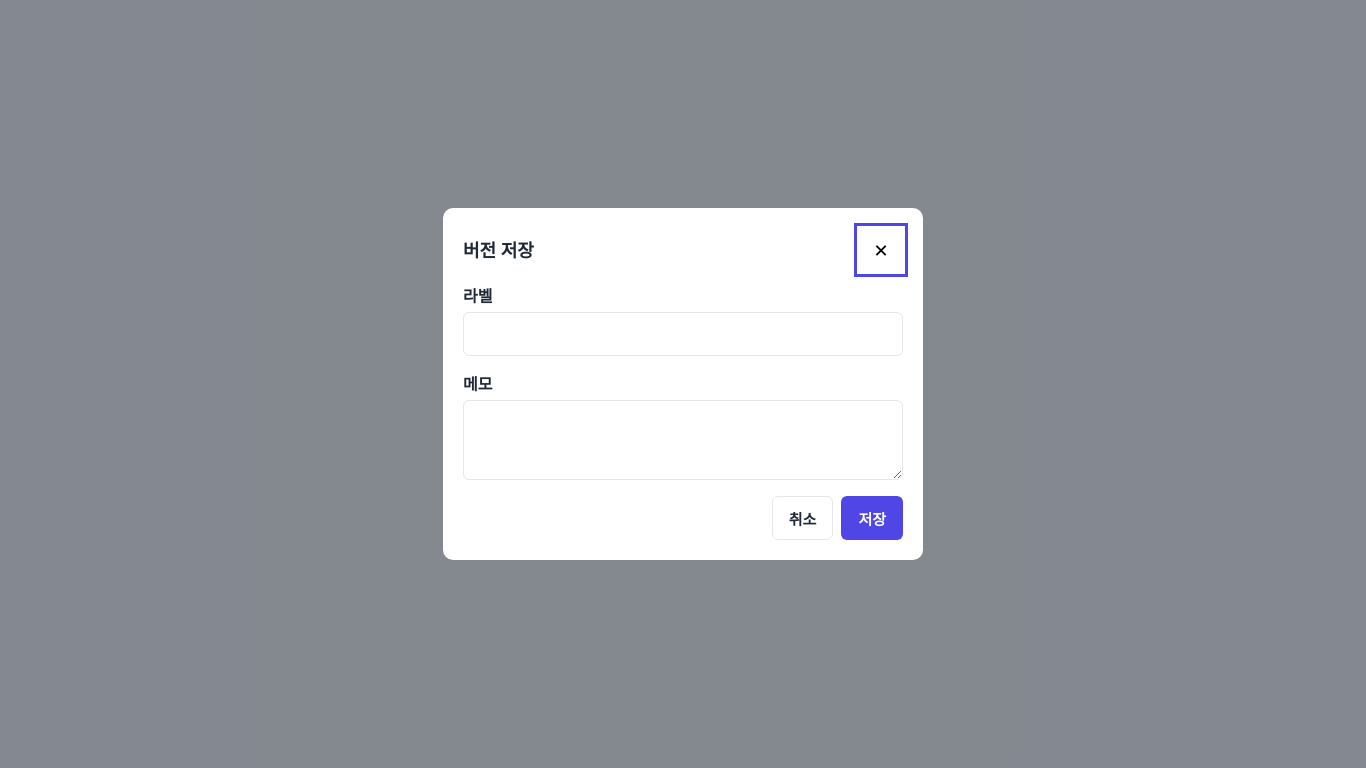
Test: CreateVersionModal › 그 외 오류는 서버 메시지를 그대로 표시한다
This screenshot has width=1366, height=768.
Click the button "저장" at (872, 518), box x1=841 y1=496 x2=903 y2=540
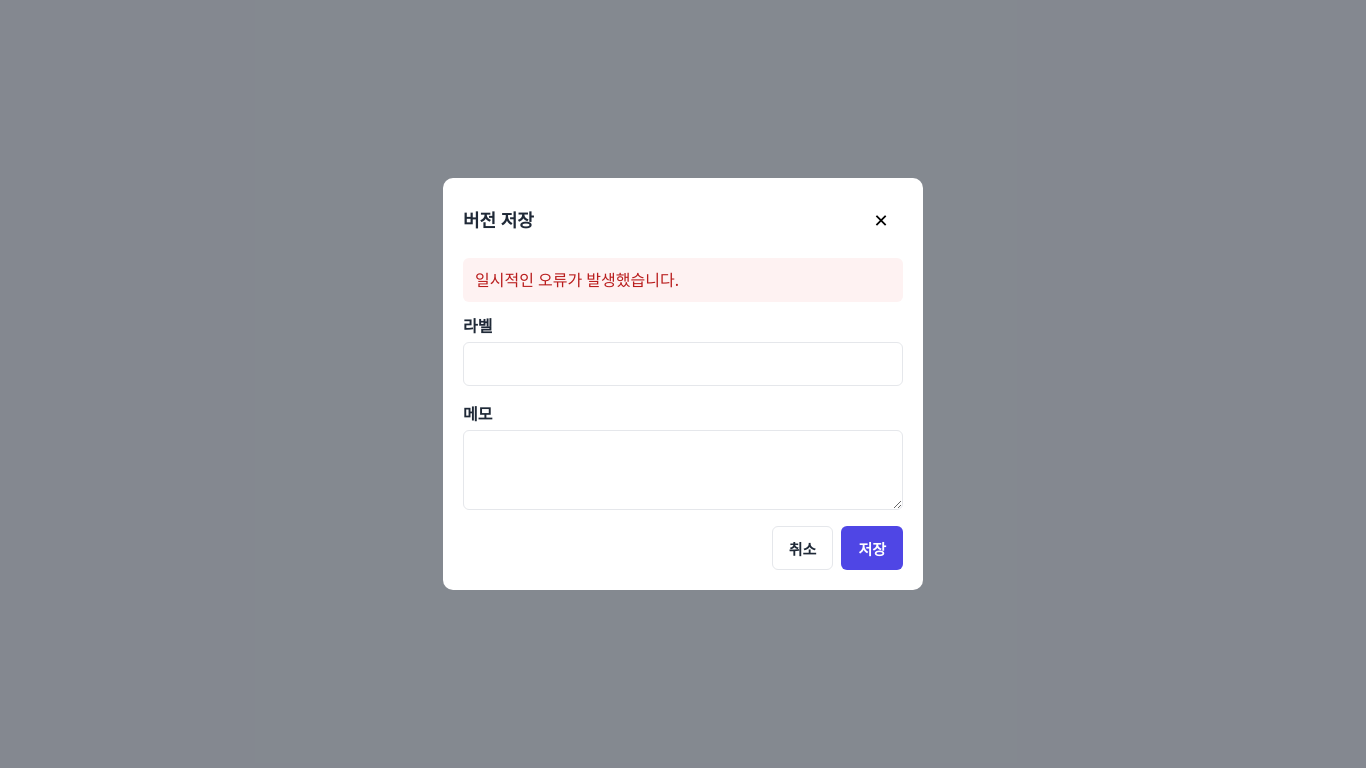
Expected: the message reads "일시적인 오류가 발생했습니다.", x1=475 y1=269 x2=679 y2=291
